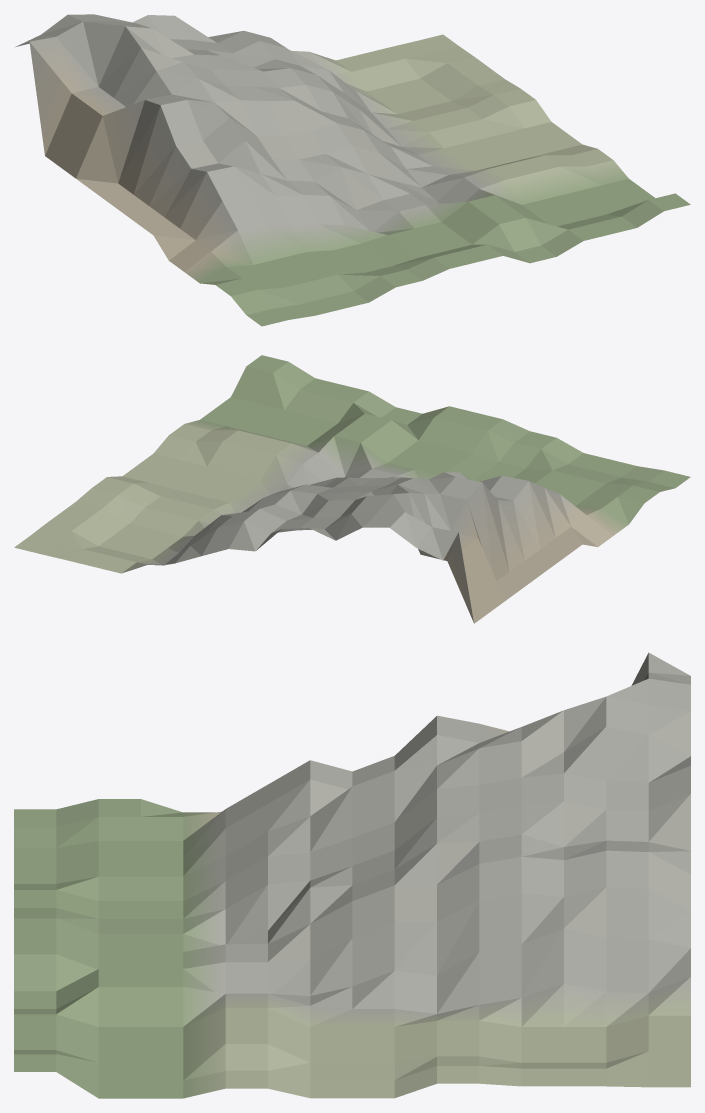
3 renders of one model, top to bottom at view 1: azimuth 30°, elevation 25°; view 2: azimuth 150°, elevation 25°; view 3: azimuth 270°, elevation 25°, orthographic. The views are drawn at different scales.
Size of the model in its own units: 32 by 9.33 by 32.
